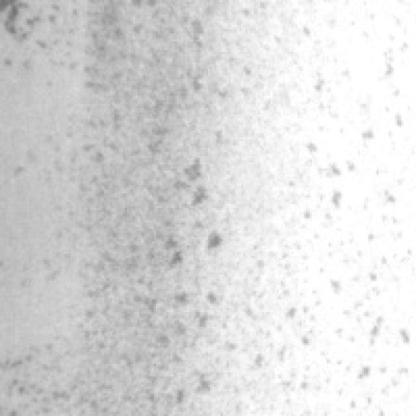pitted_surface: (13, 0, 218, 414), (241, 2, 412, 410)
